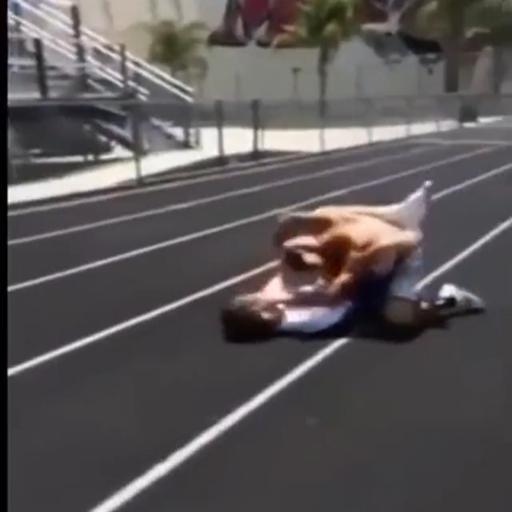violencia: (199, 168, 497, 362)
